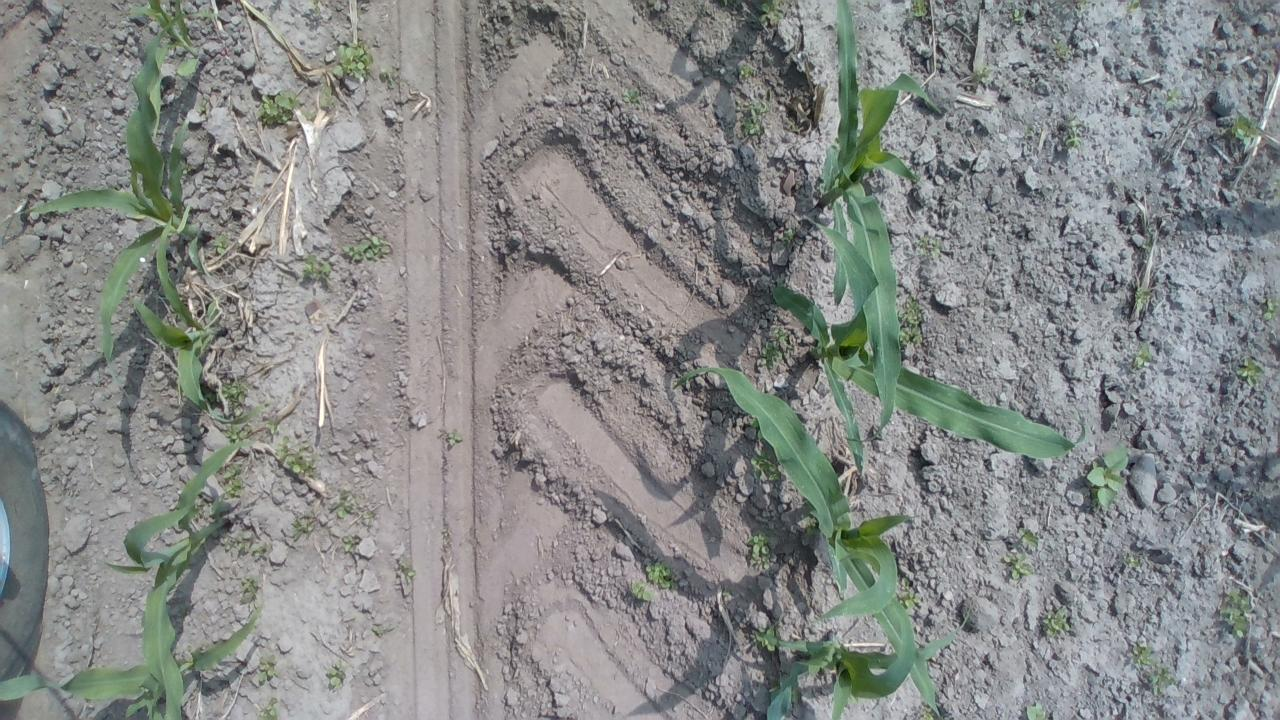Maize: (667, 362, 947, 720), (760, 213, 1076, 478), (2, 11, 218, 384), (805, 0, 948, 443), (102, 432, 258, 720), (0, 606, 264, 708), (134, 215, 245, 424), (753, 615, 970, 720), (147, 1, 213, 80)
Weeds: (1084, 446, 1132, 514), (1000, 523, 1044, 583), (337, 232, 404, 266), (1131, 644, 1178, 688), (758, 323, 797, 372), (892, 295, 928, 348), (1216, 590, 1256, 636), (743, 525, 783, 570), (272, 437, 320, 474), (252, 89, 301, 125), (331, 42, 370, 81), (749, 448, 786, 486), (1126, 342, 1161, 380), (351, 612, 397, 640), (1229, 113, 1262, 151), (1038, 604, 1070, 642), (740, 97, 769, 138), (222, 404, 252, 442), (1234, 352, 1264, 388), (301, 250, 333, 282), (912, 233, 946, 263), (644, 557, 674, 590), (1128, 282, 1156, 317), (220, 460, 245, 498), (255, 652, 283, 685), (754, 623, 782, 656), (326, 488, 354, 520), (286, 509, 316, 538), (200, 380, 248, 398), (753, 1, 784, 28), (1058, 124, 1085, 154), (396, 555, 416, 594), (324, 660, 350, 690), (222, 530, 250, 556), (629, 580, 659, 604), (251, 540, 277, 567), (1116, 543, 1143, 569), (238, 573, 262, 601), (340, 527, 364, 555), (899, 586, 923, 614), (1260, 292, 1279, 325), (207, 234, 233, 258), (971, 63, 996, 87), (1020, 700, 1050, 720), (736, 58, 760, 80), (441, 425, 464, 447), (256, 697, 279, 719), (1160, 84, 1178, 112), (908, 0, 934, 19), (621, 84, 643, 106), (1055, 40, 1074, 63), (1008, 6, 1029, 26), (265, 416, 282, 436)
